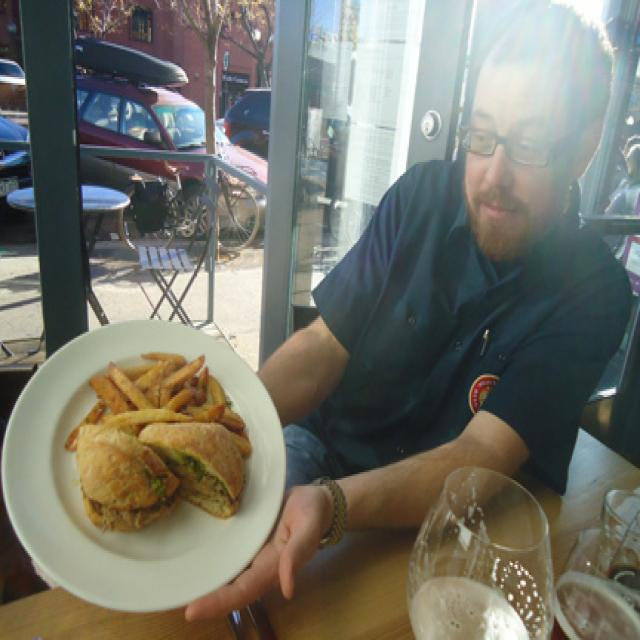Vehicle: (74, 71, 270, 236), (221, 85, 273, 164), (0, 59, 26, 113)
